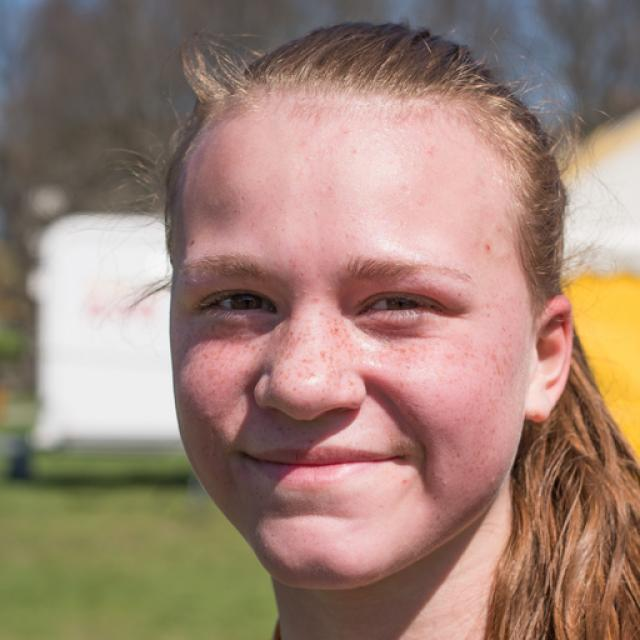Pigmentation: (254, 305, 364, 400), (176, 326, 265, 379), (441, 332, 518, 392), (343, 335, 432, 368)
